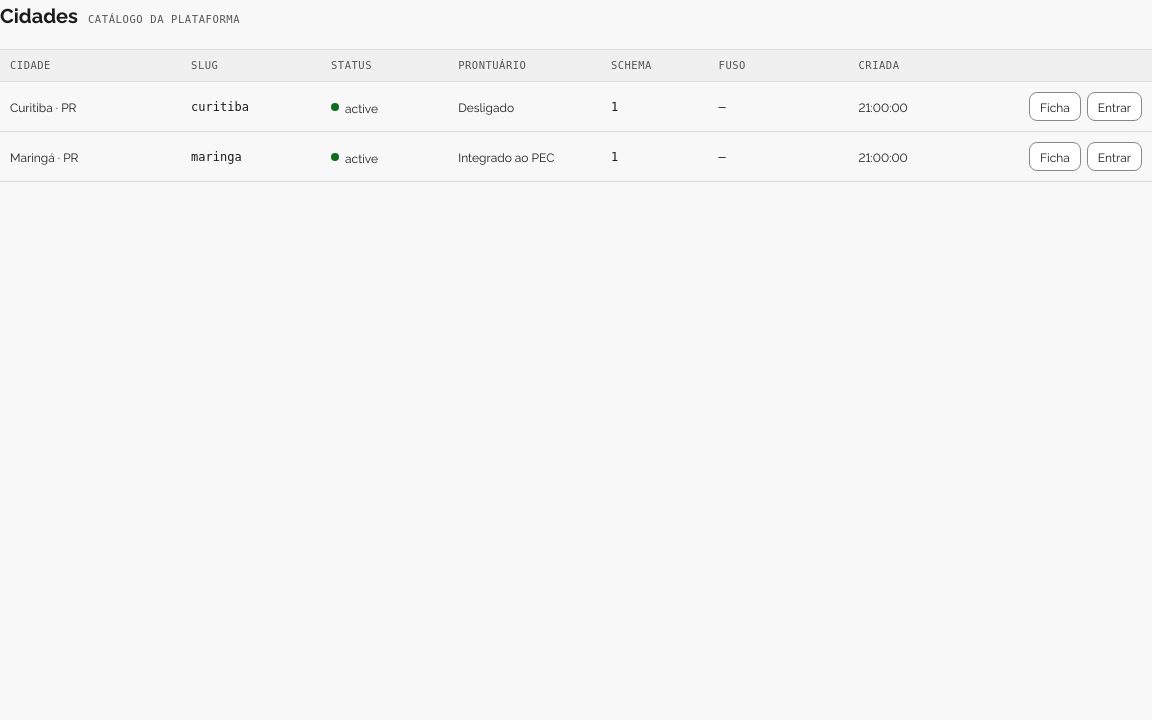
Test case: City record (read-only switches) › unknown switch and unknown missing code appear raw
Click the button with aria-label "Ficha de Curitiba": (1055, 107) [1029,92,1081,121]
(page scrolled)
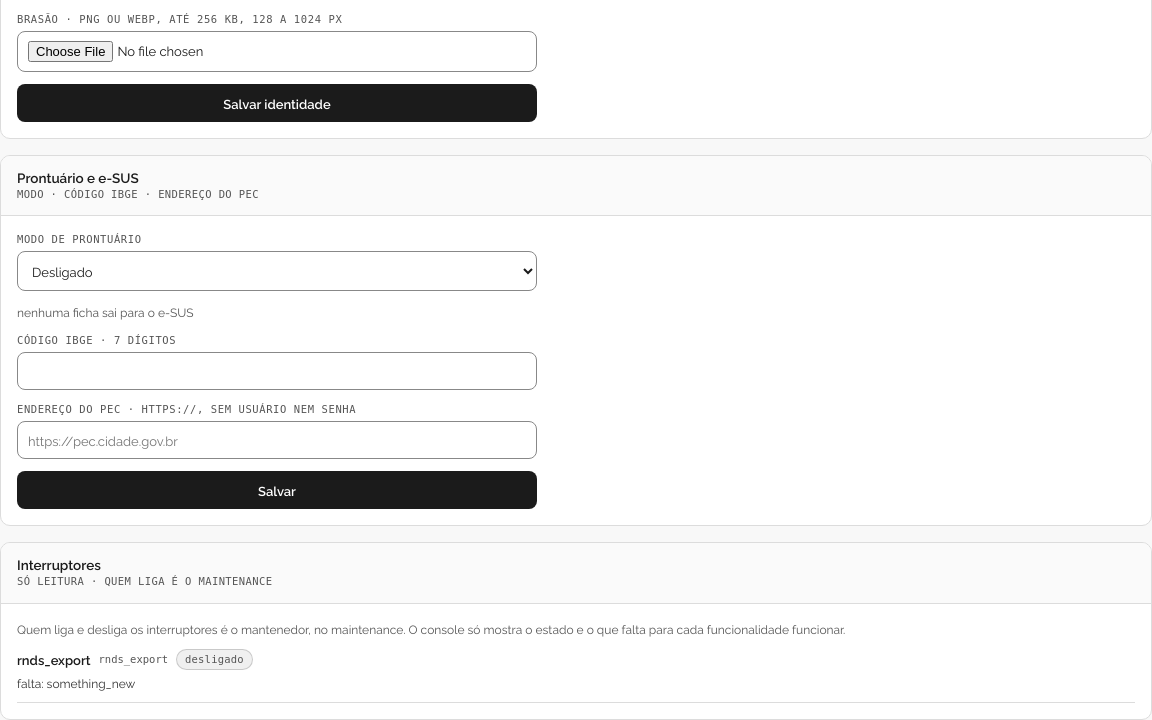
Check: the list item "rnds_export" shows "something_new", box [17,674,135,691]
